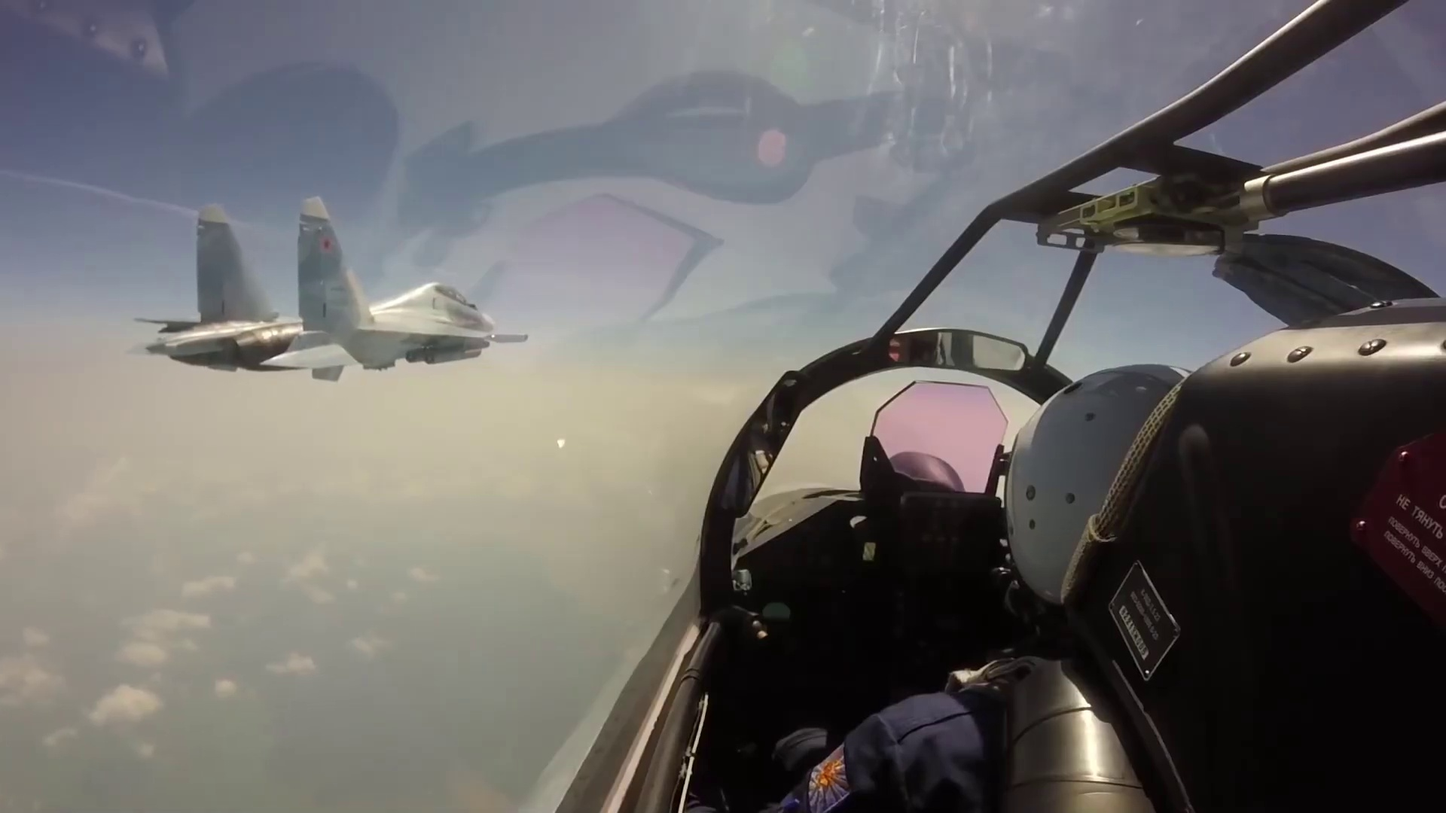Su35: (128, 196, 528, 383)
